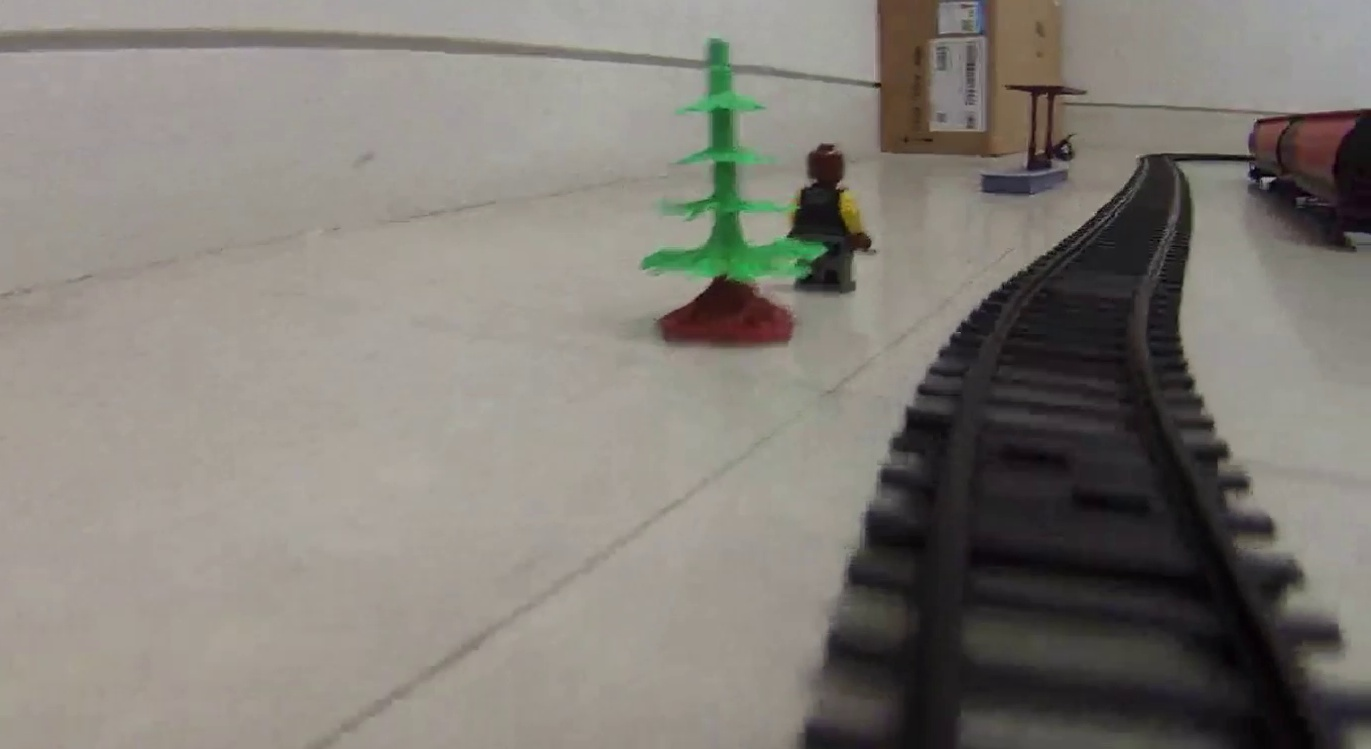people: (791, 144, 872, 294)
tree: (633, 34, 827, 347)
